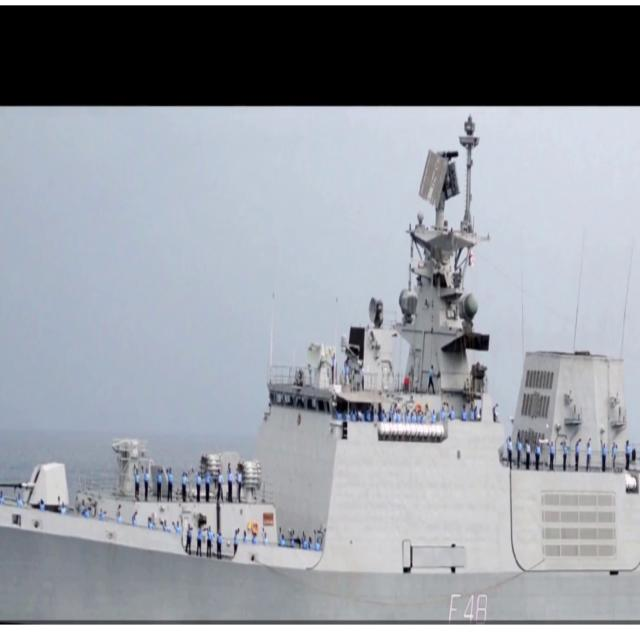OCR: (439, 586, 491, 623)
